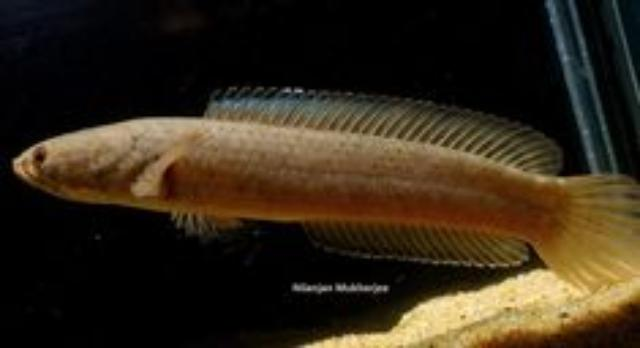Mulut: (5, 146, 74, 206)
Sirip Anal: (291, 208, 534, 270)
Sirip Dada: (140, 141, 234, 248)
Sirip Ekor: (542, 166, 640, 300)
Sirip Punggung: (204, 83, 566, 181)
